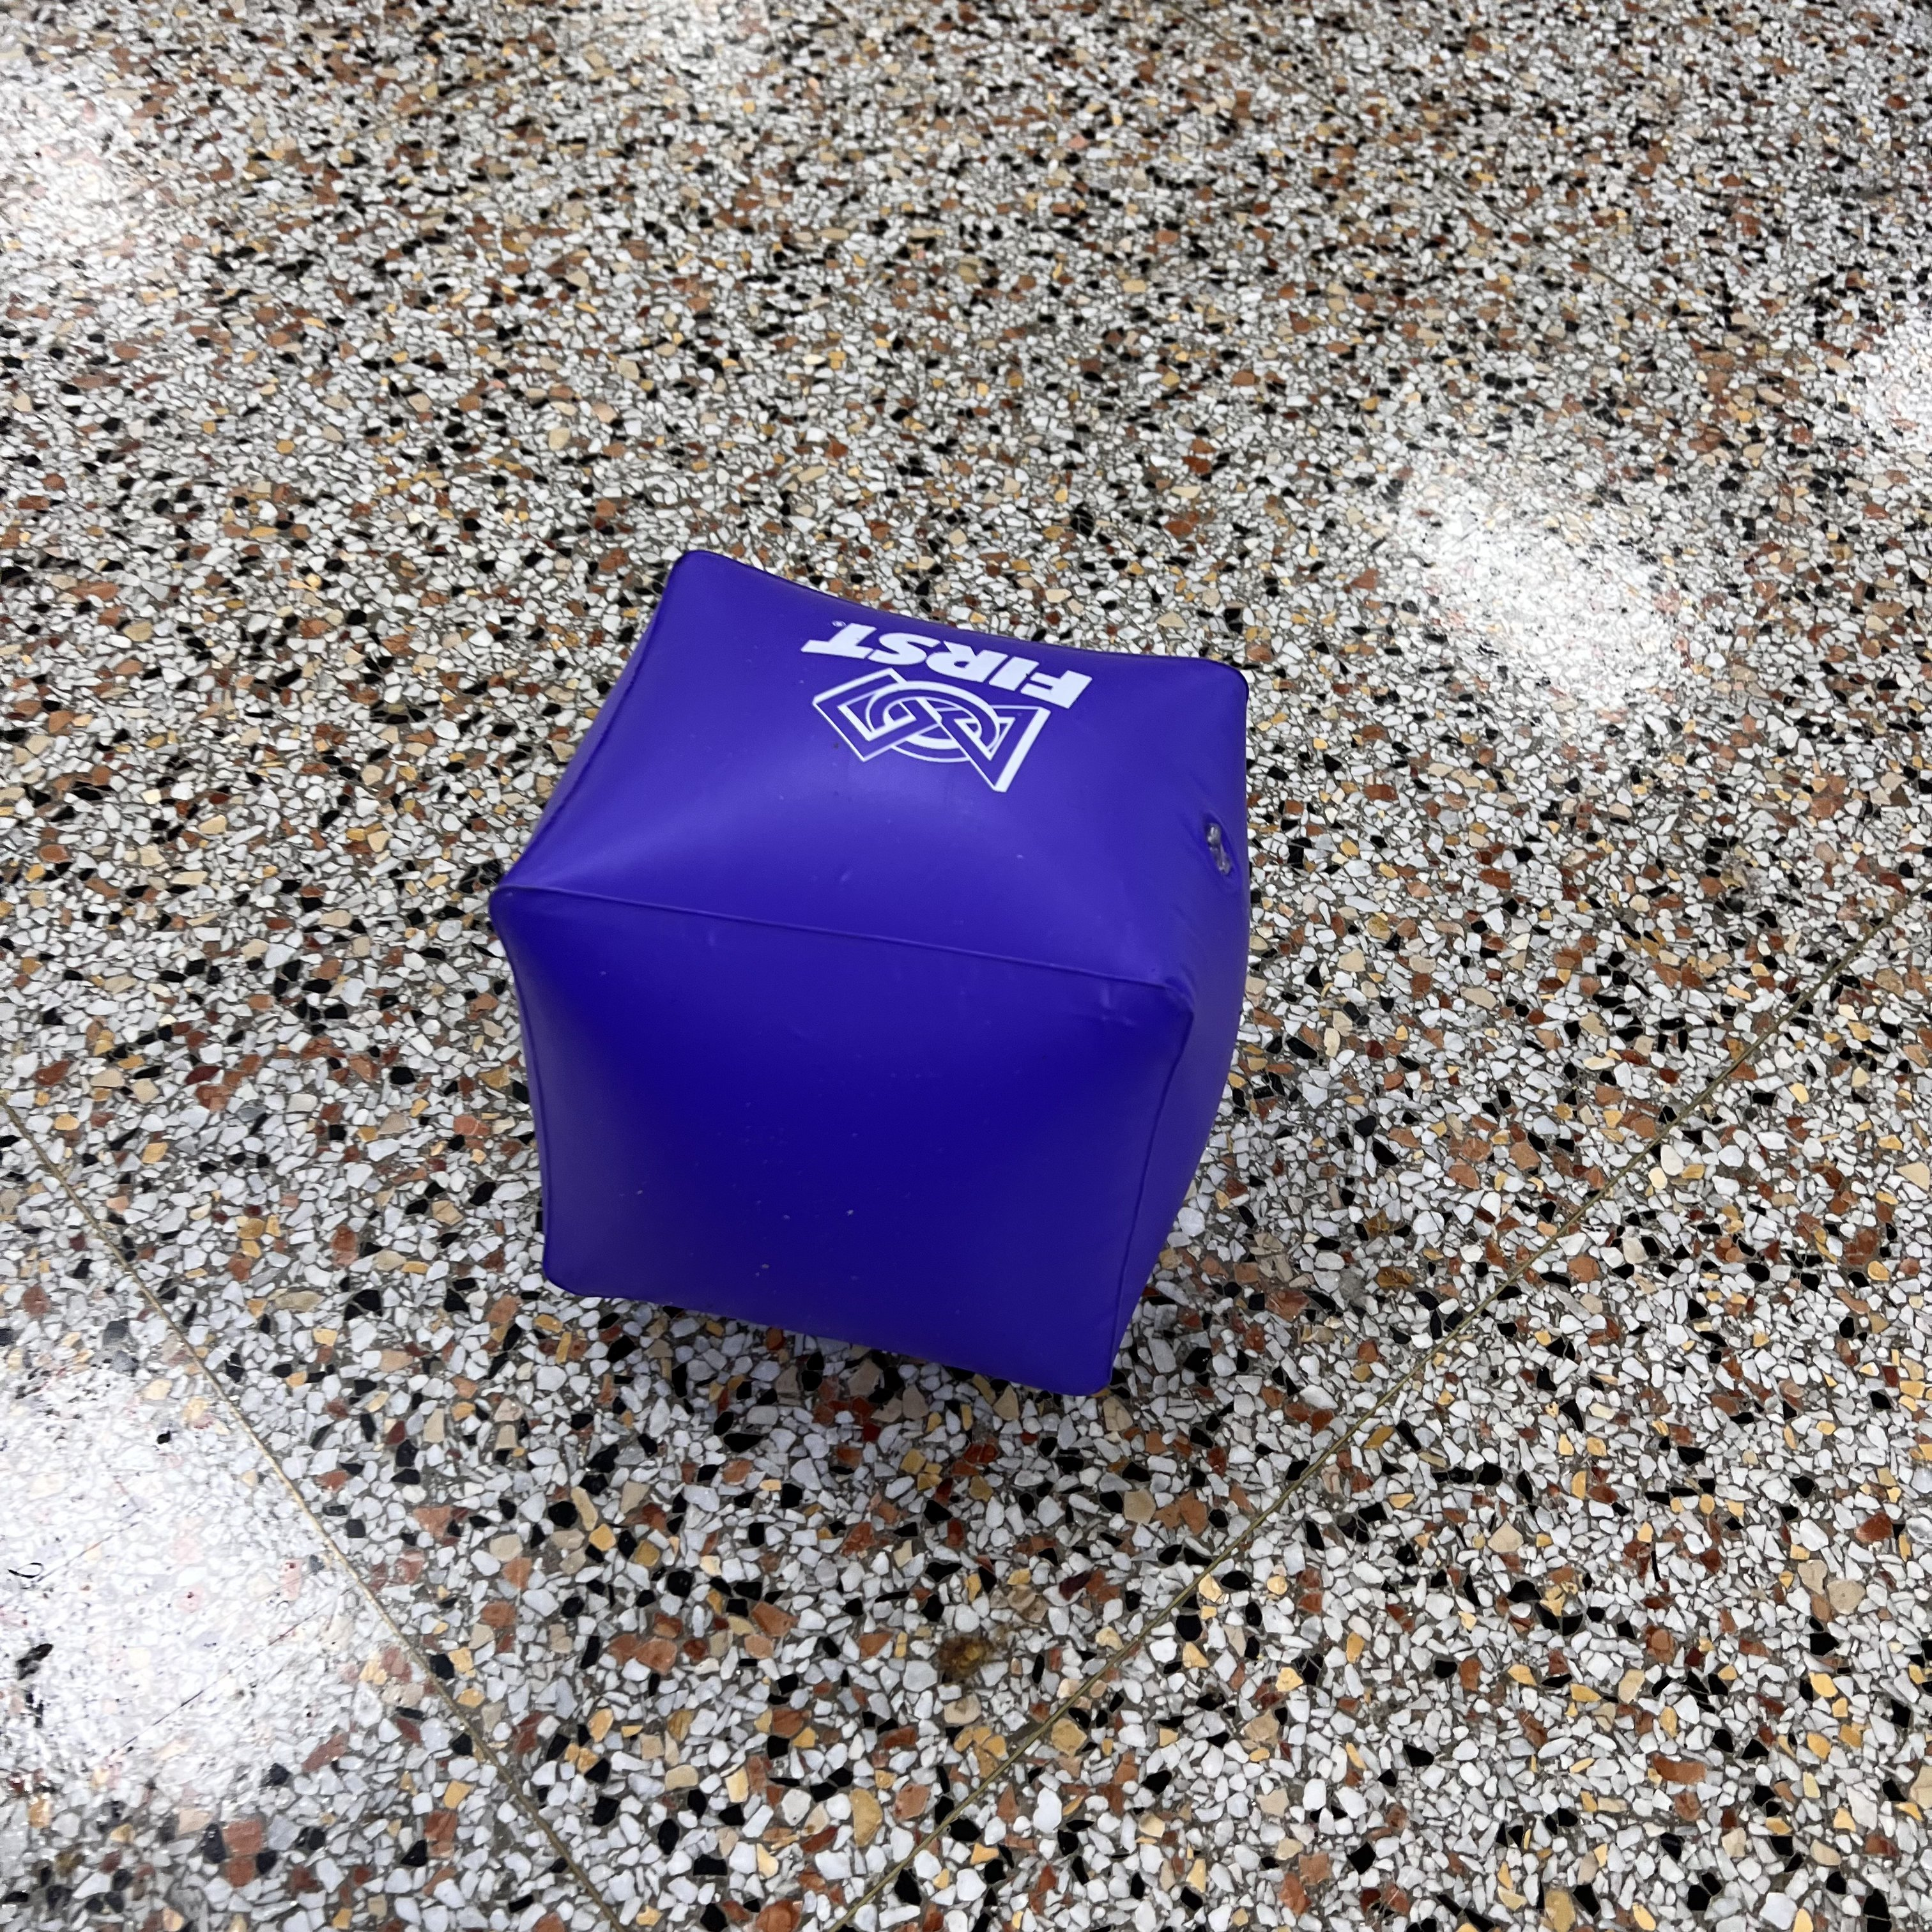cube: (488, 547, 1249, 1394)
